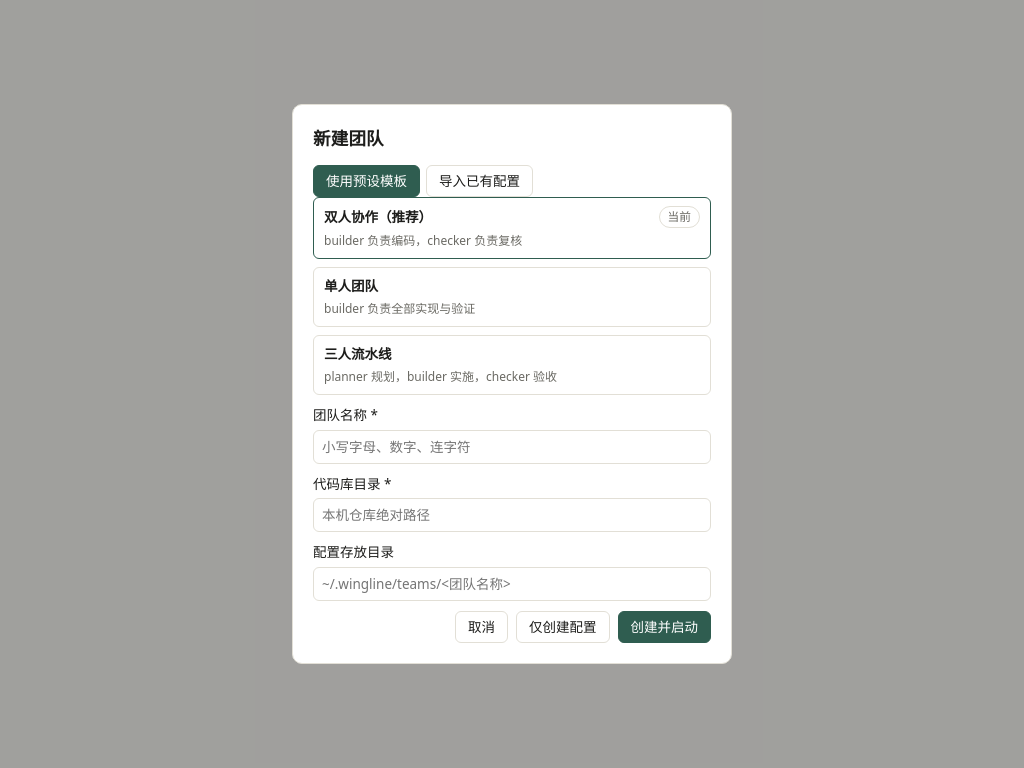
Test: 导入模式必填校验：未填 specPath 时报错
Click the button "导入已有配置" at (480, 181), box x1=426 y1=165 x2=533 y2=197
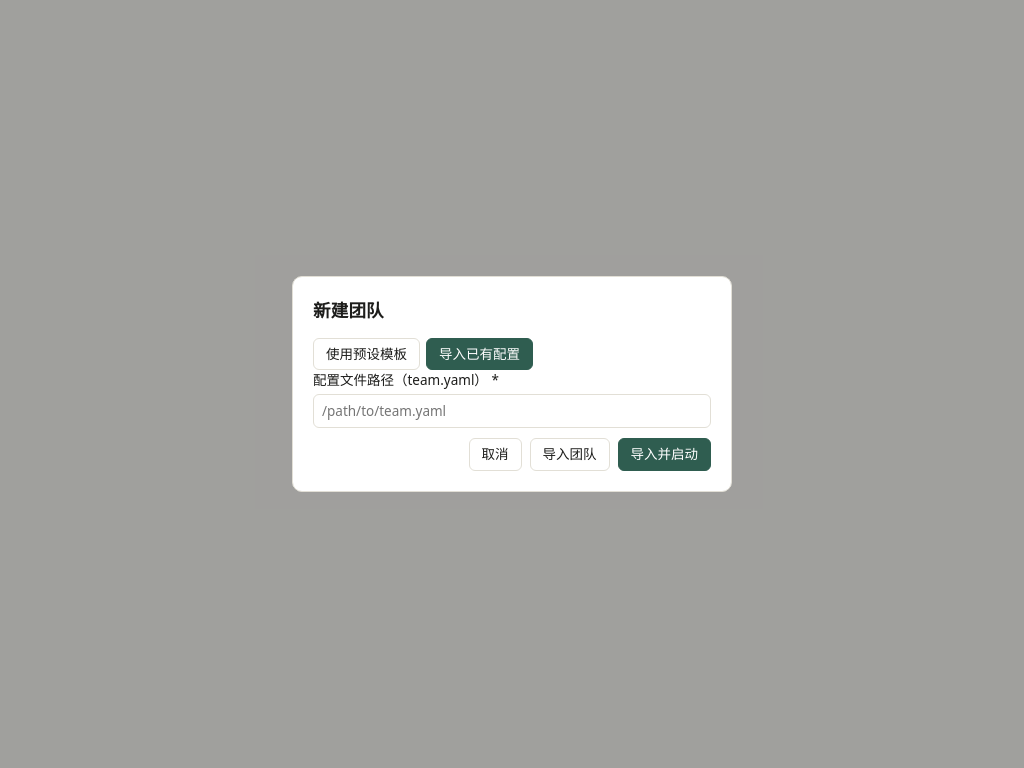
Click the button "导入团队" at (570, 455), box x1=530 y1=438 x2=610 y2=471
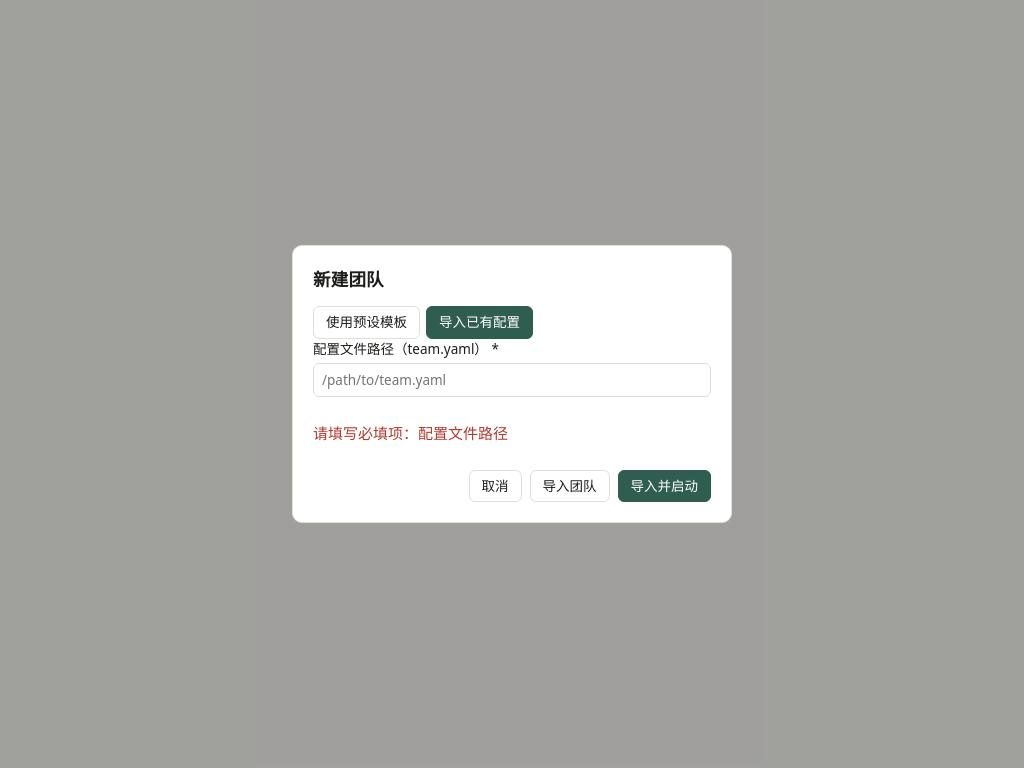
Now the message shows "请填写必填项", box x1=313 y1=423 x2=508 y2=443
